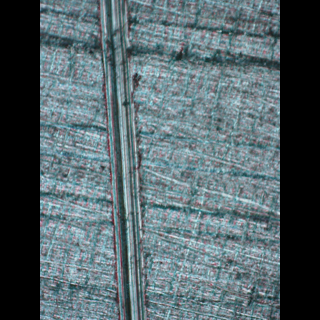d: (93, 0, 151, 320)
